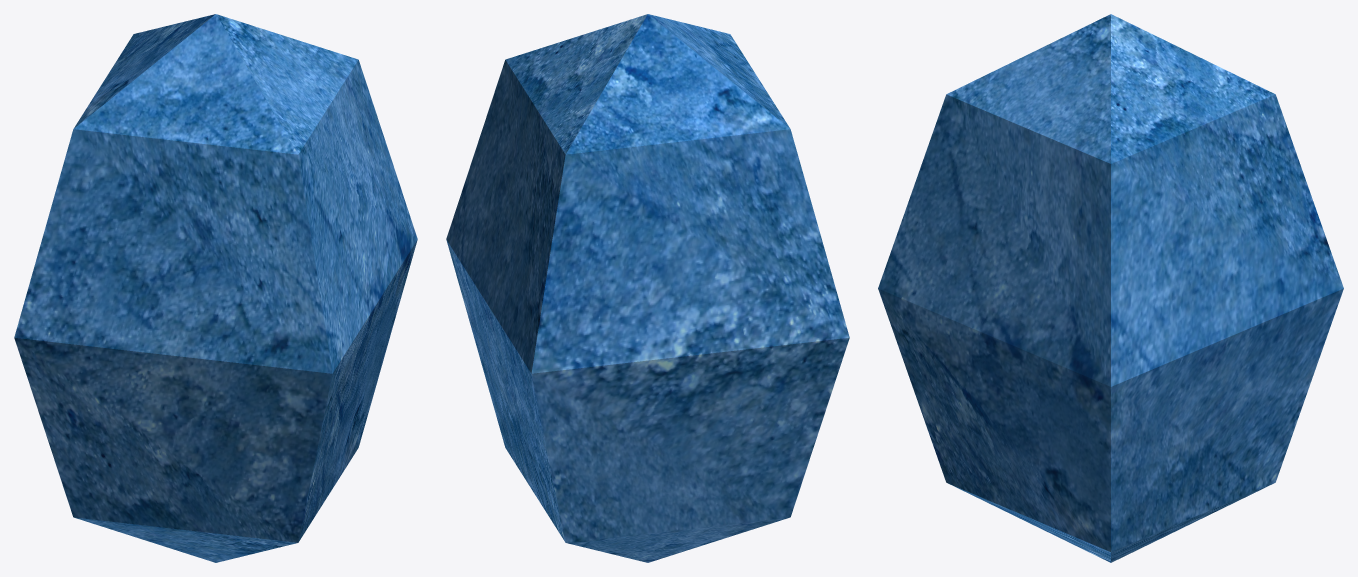
File: blueStone3.obj
3 renders of one model, left to right at view 1: azimuth 30°, elevation 25°; view 2: azimuth 150°, elevation 25°; view 3: azimuth 270°, elevation 25°, orthographic.
Size of the model in its own units: 2 by 2.6 by 2.
1 material, 1 textured.
